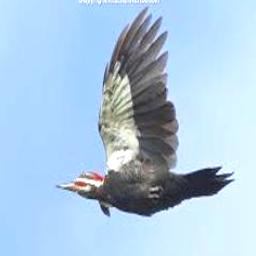Woodpecker: (54, 6, 235, 215)
